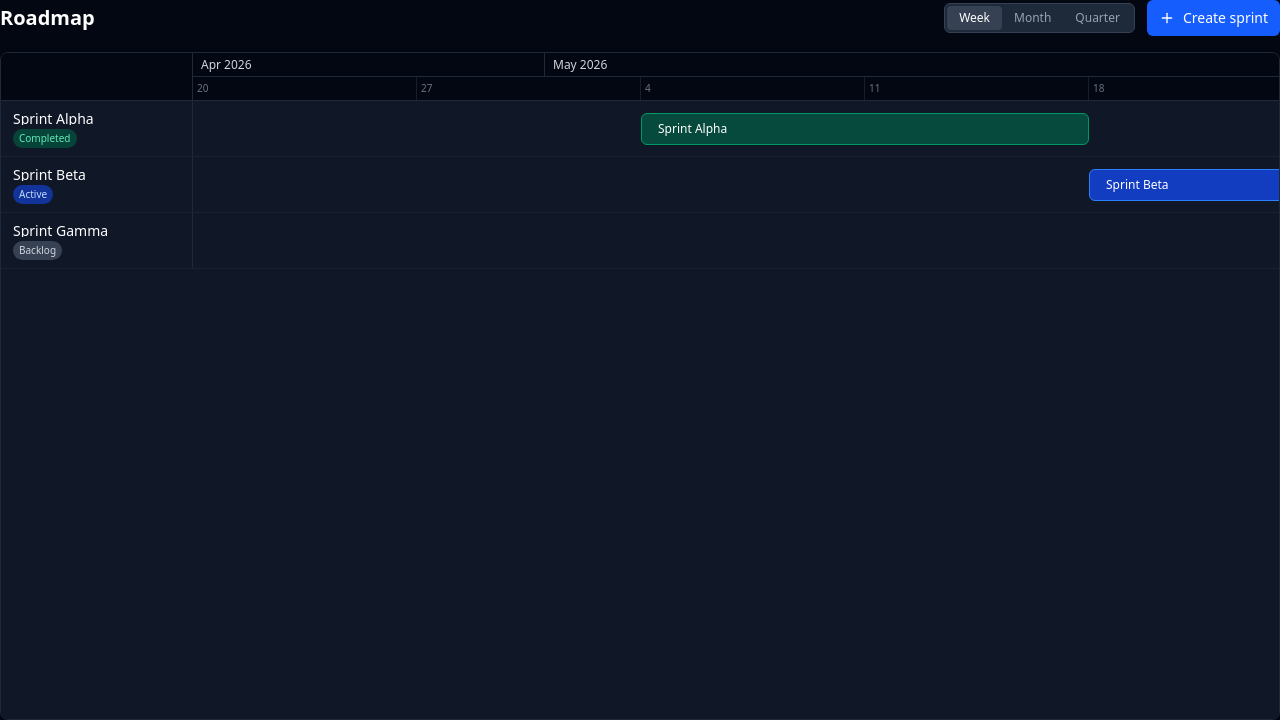
Test: Roadmap — with sprints › opens the edit dialog when a bar is clicked
Click the button with aria-label "move sprint alpha" at (693, 128), box [658, 120, 727, 136]
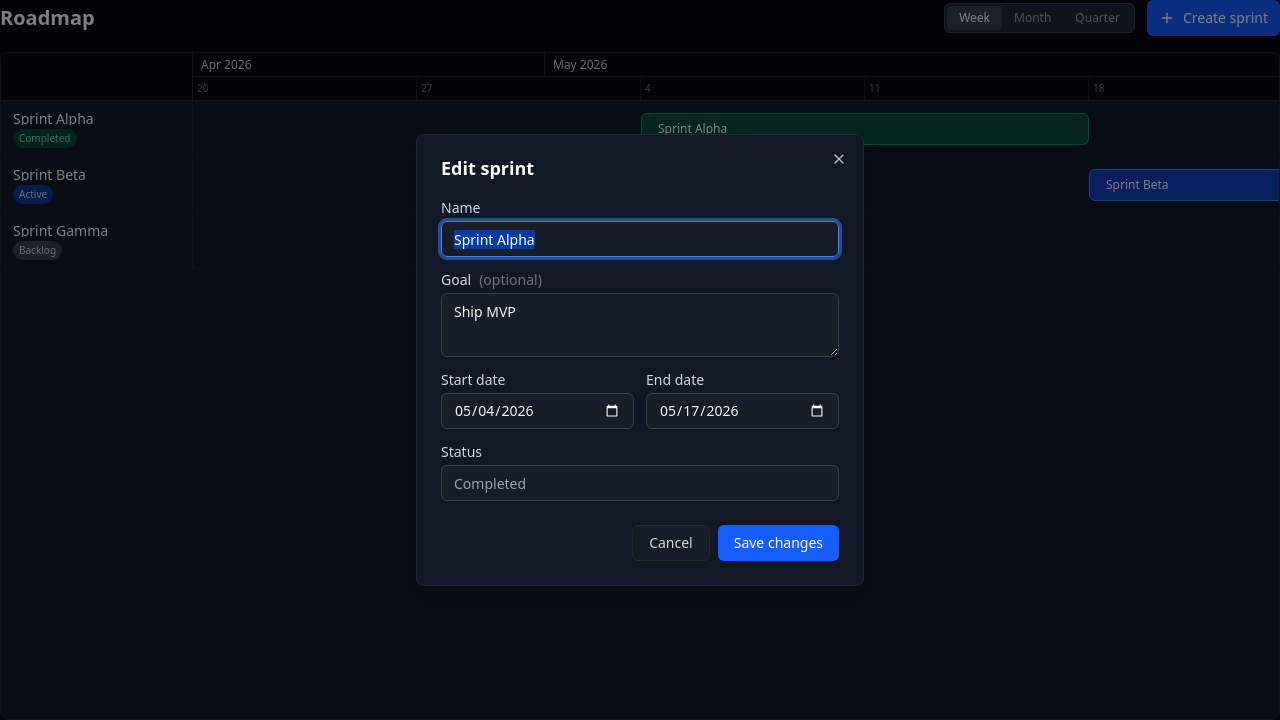
Expected: the dialog "Edit sprint" is shown, [416, 134, 864, 586]
